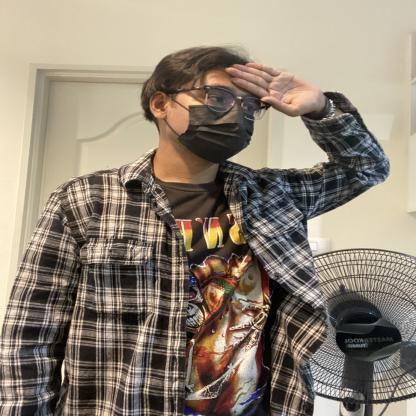Sick: (114, 43, 340, 140)
